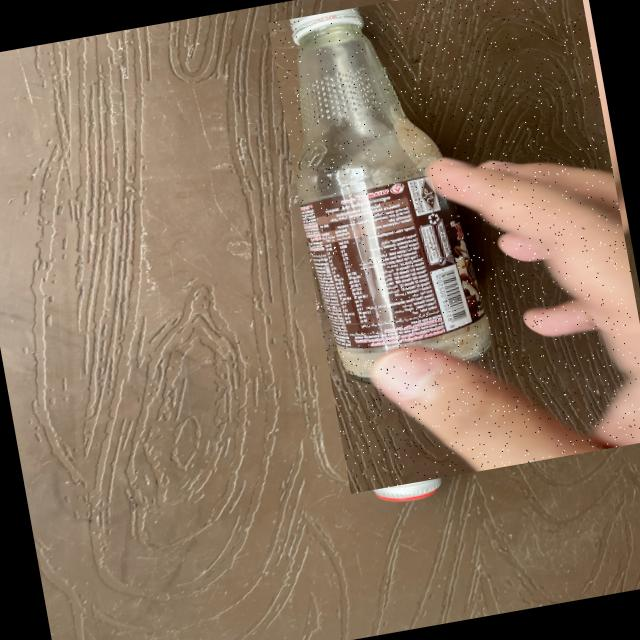Glass_Bottle: (267, 0, 640, 493)
